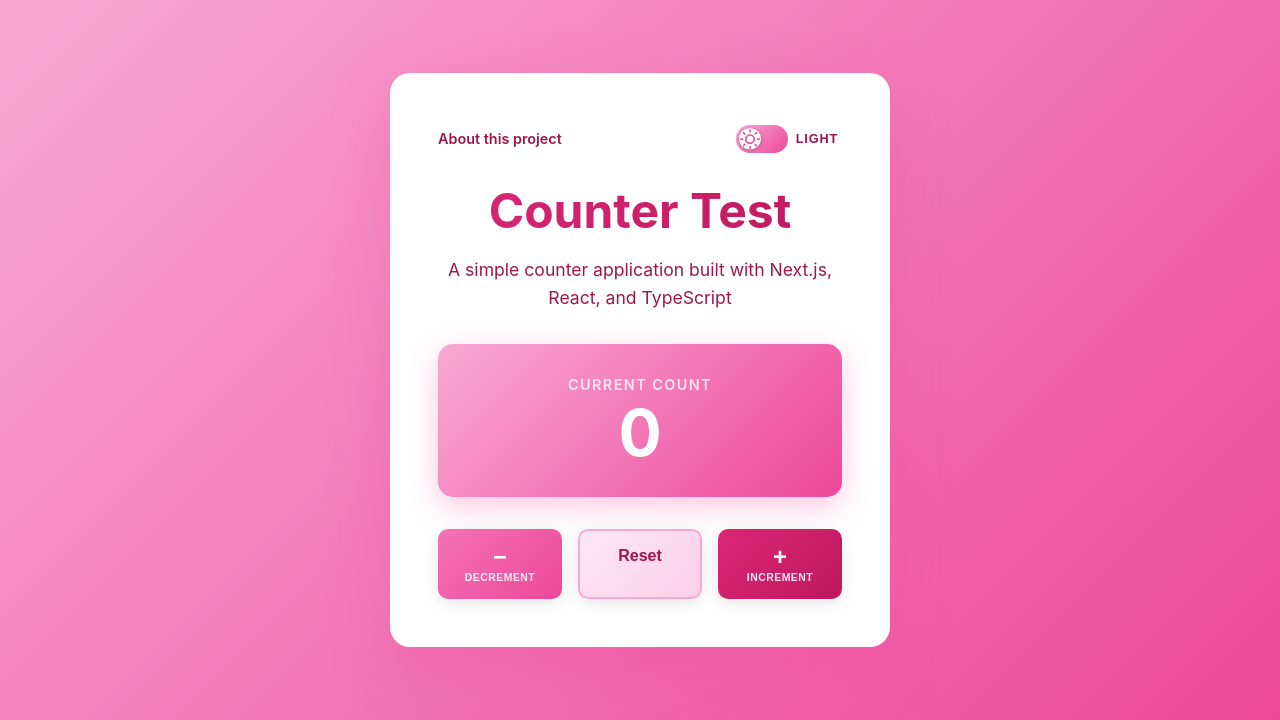
Test case: Home page counter – increment › increments to 2 after two clicks
Step 1. Click the button with aria-label "increment counter" → (780, 564), box [718,529,842,599]
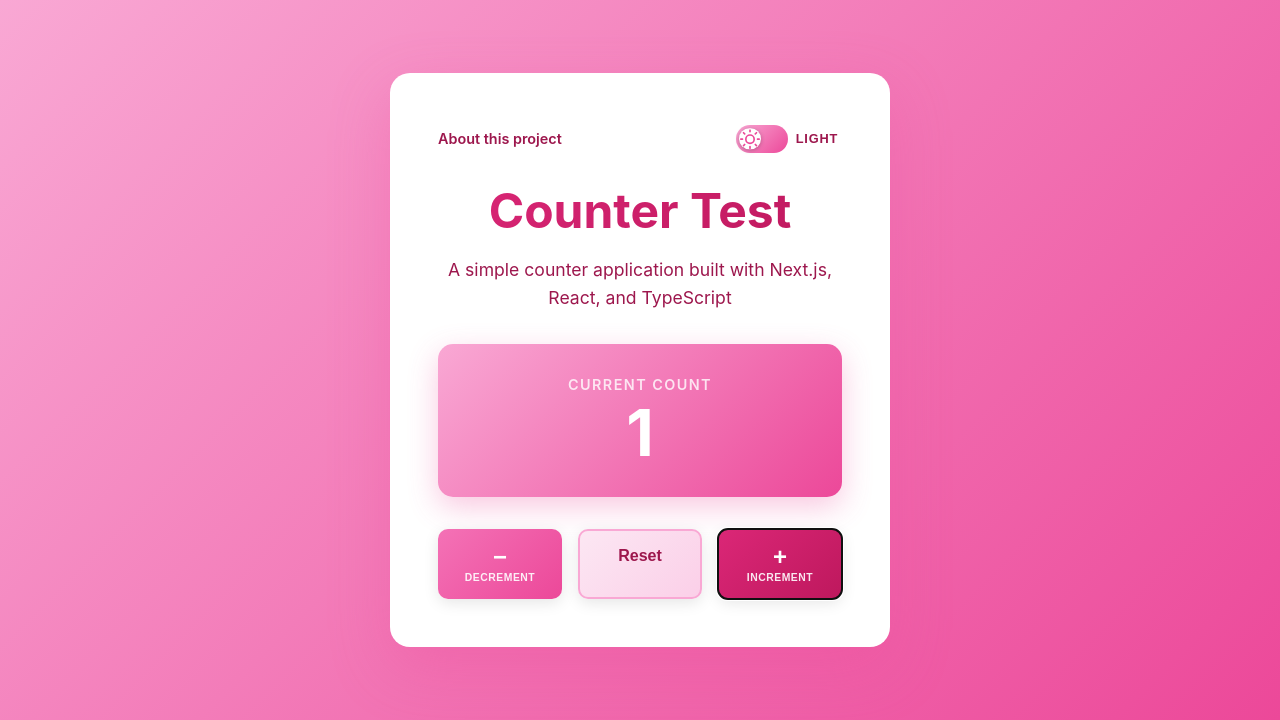
Step 2. Click the button with aria-label "increment counter" → (780, 564), box [718,529,842,599]
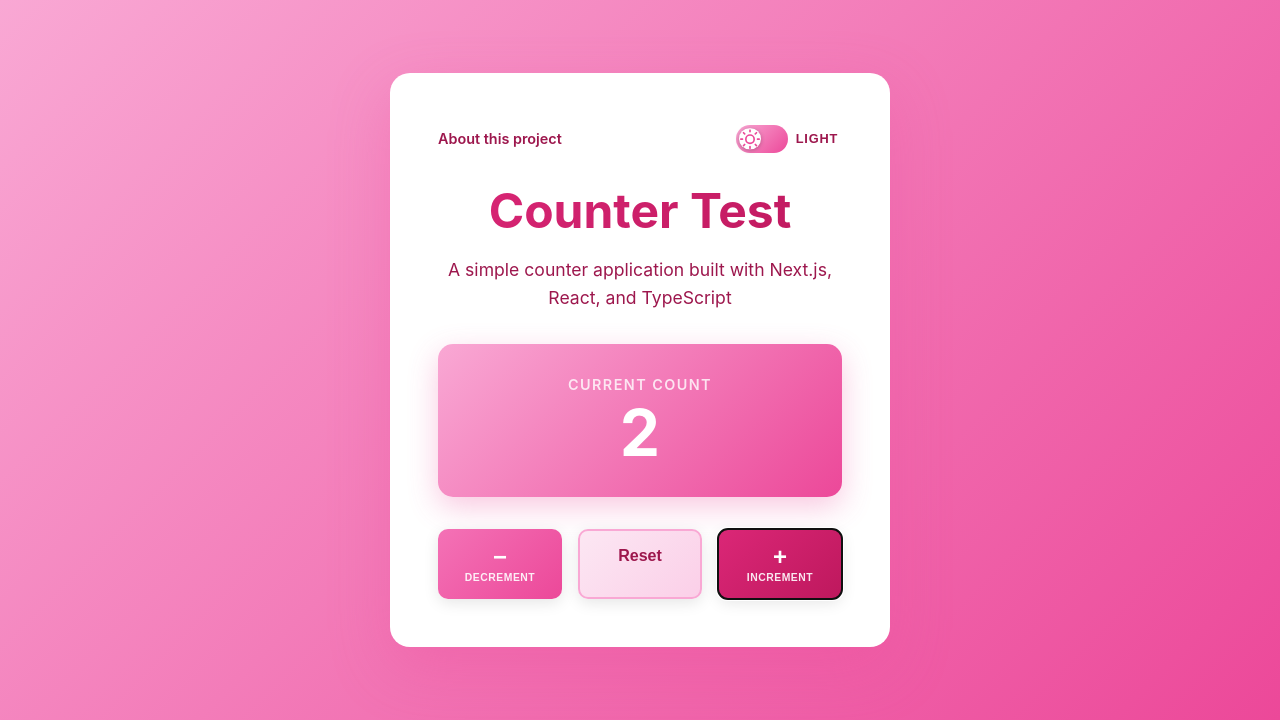
Result: the text "2" is shown at [620,401,660,465]
